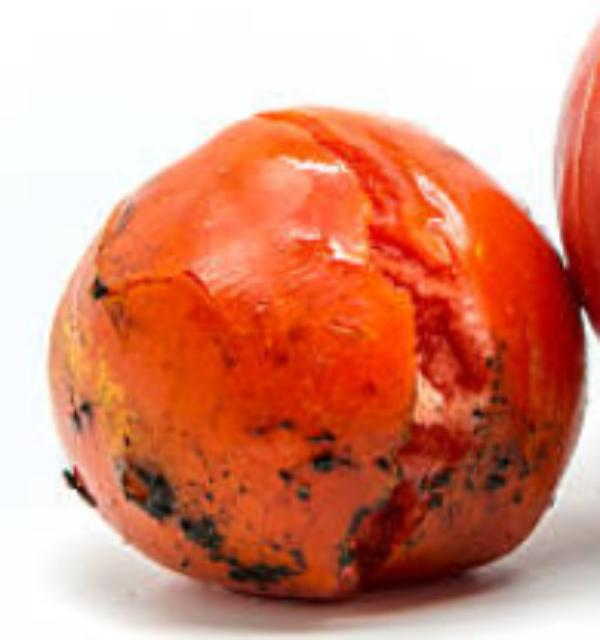defect: (42, 102, 588, 606)
